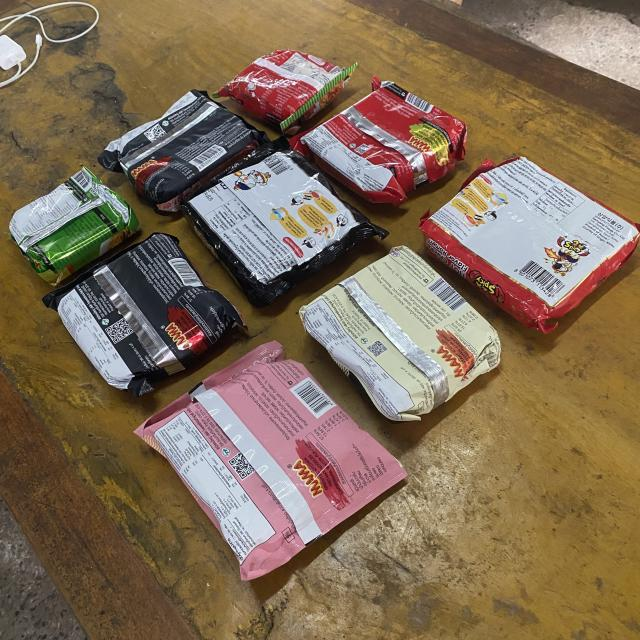plastik: (135, 341, 406, 580), (420, 158, 640, 334), (182, 136, 388, 308), (300, 246, 500, 421), (42, 232, 242, 396), (290, 76, 466, 205), (98, 90, 269, 214), (10, 168, 140, 285), (215, 50, 352, 134)
